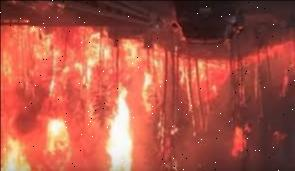fire: (0, 19, 213, 170)
